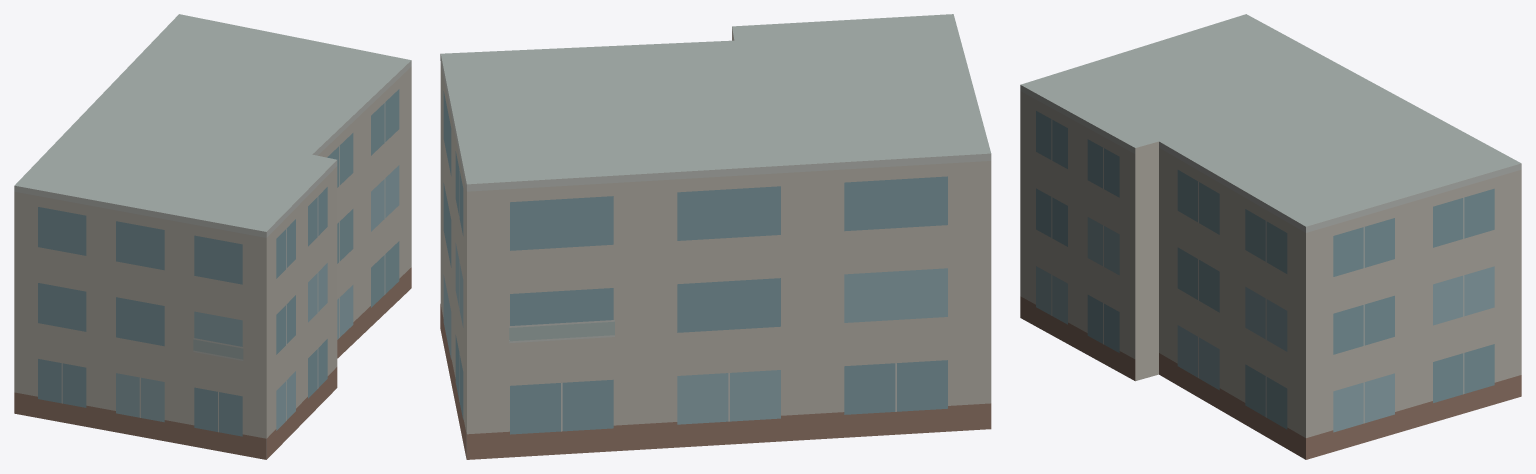
File: survey-upis-33016695.glb
3 views of the same model, side by side, from view 1: azimuth 30°, elevation 25°; view 2: azimuth 150°, elevation 25°; view 3: azimuth 270°, elevation 25° (orthographic). The views are drawn at different scales.
Visible parts, largest first — view 1: survey-upis-33016695.tmp; view 2: survey-upis-33016695.tmp; view 3: survey-upis-33016695.tmp.
Boxes of the visible parts, x1,y1,x2,y2 form: survey-upis-33016695.tmp: [14, 14, 411, 459]; survey-upis-33016695.tmp: [440, 14, 991, 459]; survey-upis-33016695.tmp: [1020, 14, 1521, 459].
Size of the model in its own units: 17.92 by 9.15 by 17.84.
